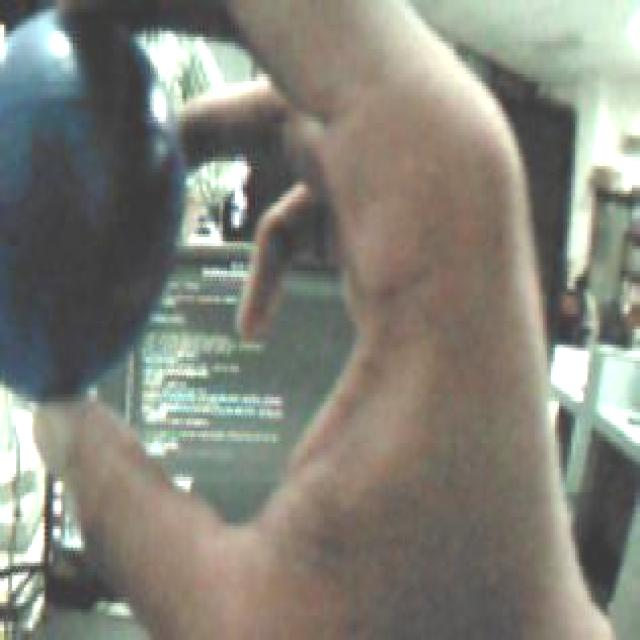BallPurple: (0, 6, 180, 397)
